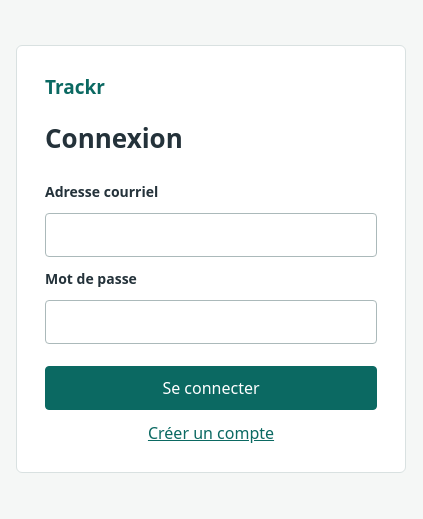
Test: affiche une erreur sans charger les projets si la connexion échoue
Type "alice@example.com" into the field labelled "Adresse courriel" at (211, 235), box [45,213,377,257]
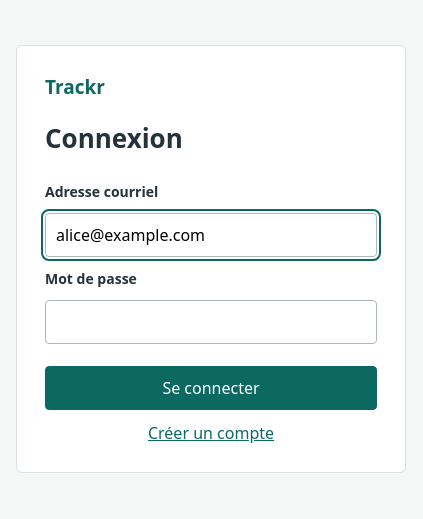
Type "Password123!" into the password field labelled "Mot de passe" at (211, 322), box [45,300,377,344]
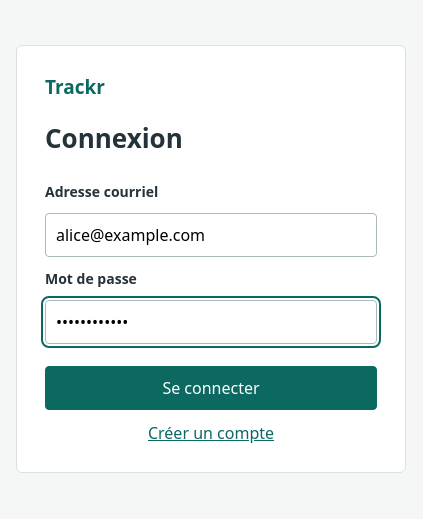
Click the button "Se connecter" at (211, 388), box [45,366,377,410]
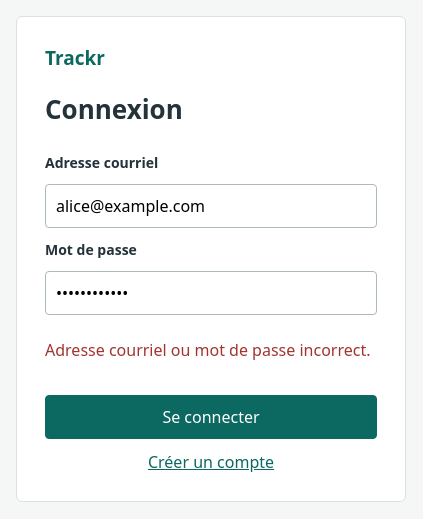
Expected: the heading "Connexion" is shown, [45,91,183,127]
Now the message reads "Adresse courriel ou mot de passe incorrect.", box [45,339,370,361]
